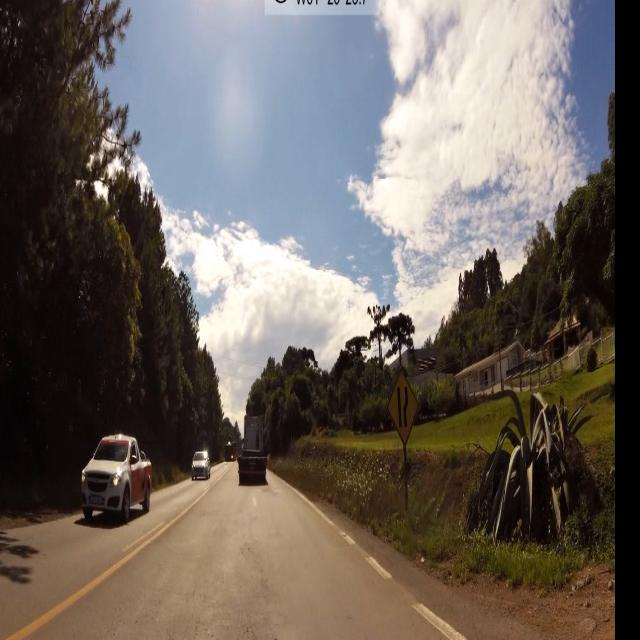A-21e: (388, 372, 422, 445)
